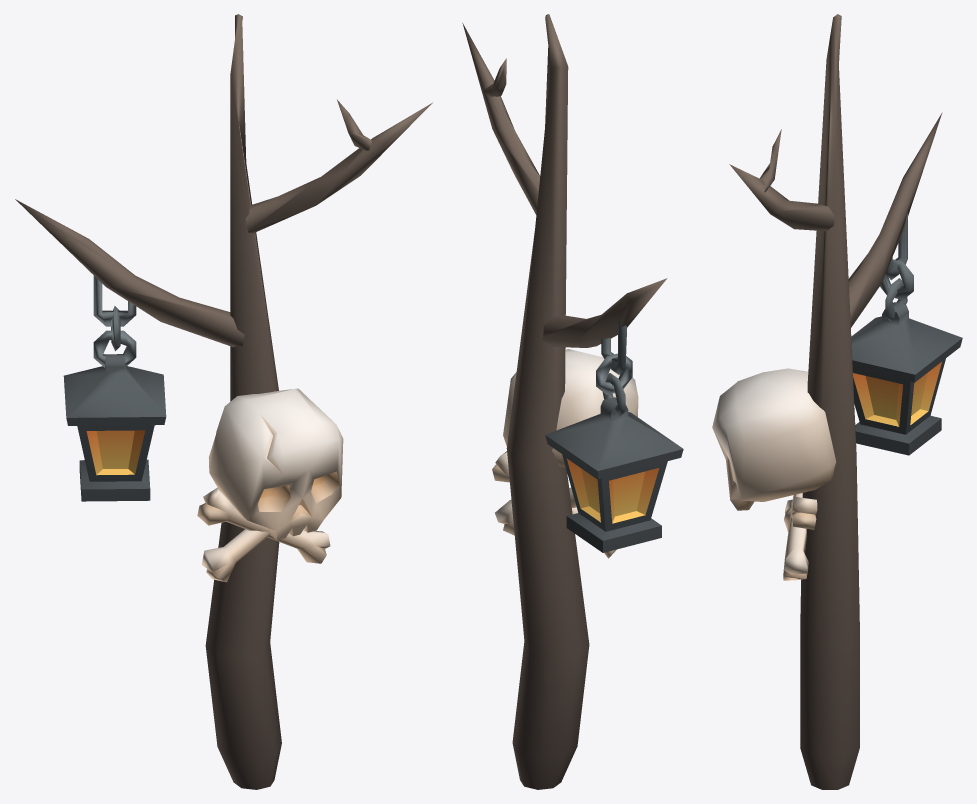
Rendered from cc0-tree-decorated-lod1.glb.
The picture shows the model from 3 angles, left to right: view 1: azimuth 30°, elevation 25°; view 2: azimuth 150°, elevation 25°; view 3: azimuth 270°, elevation 25°; orthographic projection.
Parts seen in each view (by area): view 1: part_0; view 2: part_0; view 3: part_0.
Part boxes in pixels (<box>): part_0: <box>15,14,432,789</box>; part_0: <box>462,14,683,789</box>; part_0: <box>712,14,962,789</box>.
Size of the model in its own units: 2.3 by 5.42 by 1.61.
1 material, 1 textured.
